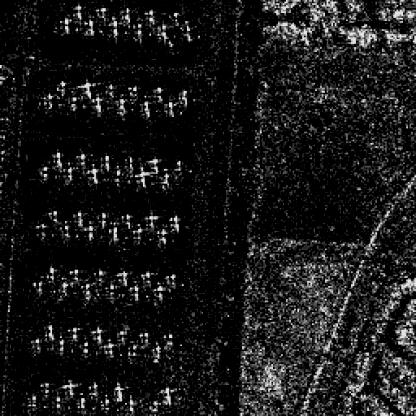airplane: (127, 284, 146, 304), (180, 20, 196, 42), (84, 164, 100, 184), (116, 268, 132, 288), (138, 268, 154, 288), (133, 327, 153, 343), (156, 23, 172, 42), (169, 10, 185, 29), (166, 213, 182, 232), (78, 283, 94, 302), (111, 166, 125, 187), (151, 229, 169, 245), (91, 268, 107, 286), (106, 282, 122, 300), (162, 268, 180, 284), (60, 378, 76, 396), (39, 380, 52, 402), (135, 167, 149, 187), (55, 223, 75, 237), (104, 226, 119, 244), (151, 286, 169, 301), (119, 210, 133, 229), (45, 208, 61, 224), (128, 226, 144, 242), (125, 341, 140, 358), (83, 18, 97, 36), (42, 265, 60, 279), (161, 330, 179, 344), (98, 393, 112, 411), (143, 213, 158, 229), (53, 80, 66, 98), (100, 152, 113, 170), (125, 154, 138, 172), (34, 222, 47, 240), (112, 384, 125, 402), (143, 8, 158, 23), (73, 151, 88, 166), (159, 172, 174, 187), (58, 16, 72, 32), (67, 265, 81, 281), (102, 340, 116, 356), (177, 86, 189, 104), (150, 154, 162, 172), (55, 336, 67, 354), (150, 343, 162, 361), (125, 396, 137, 414), (106, 21, 122, 34), (31, 278, 47, 291), (26, 392, 39, 408), (72, 3, 84, 20), (117, 94, 127, 114), (80, 80, 91, 98), (91, 94, 102, 112), (52, 151, 63, 169), (117, 324, 128, 342), (126, 83, 140, 97), (57, 280, 71, 294), (83, 224, 96, 239), (91, 325, 104, 340), (132, 21, 144, 37), (166, 99, 178, 115), (30, 336, 42, 352), (68, 322, 80, 338), (40, 93, 53, 107), (72, 211, 84, 226), (67, 96, 78, 112), (39, 164, 50, 180), (44, 322, 55, 338), (80, 338, 91, 354), (88, 382, 99, 398), (96, 5, 109, 18), (96, 213, 109, 226), (64, 166, 76, 180), (76, 395, 88, 409), (141, 99, 151, 115), (154, 84, 164, 100), (122, 7, 133, 21), (52, 395, 63, 409), (104, 83, 115, 96)
